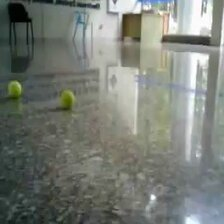tennis: (58, 90, 73, 108), (7, 80, 21, 96)
